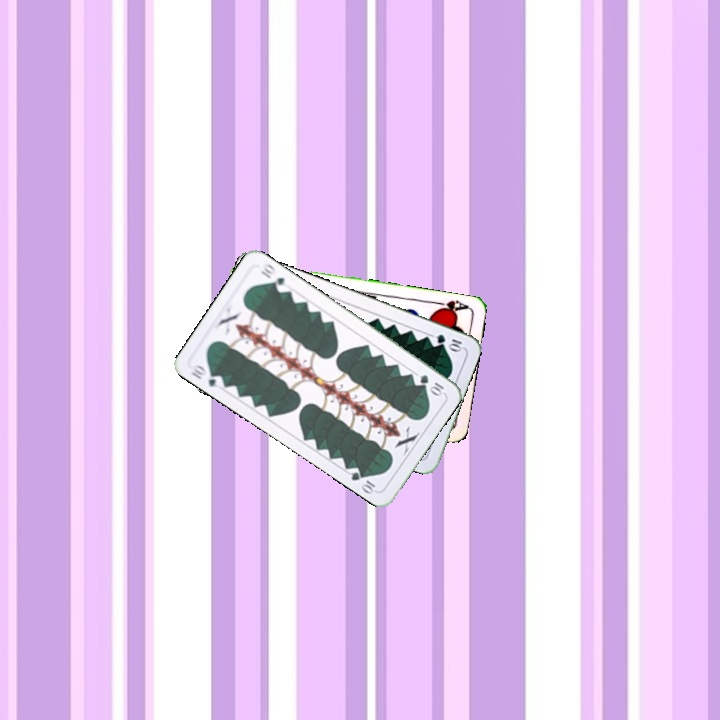G10: (186, 361, 226, 391), (416, 370, 447, 398), (432, 330, 465, 354)
HA: (431, 296, 471, 317)
